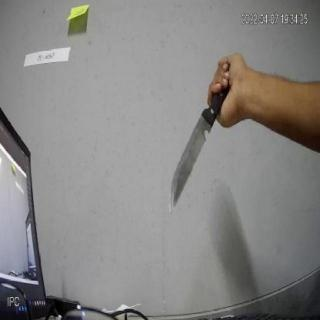knife: (167, 67, 236, 215)
